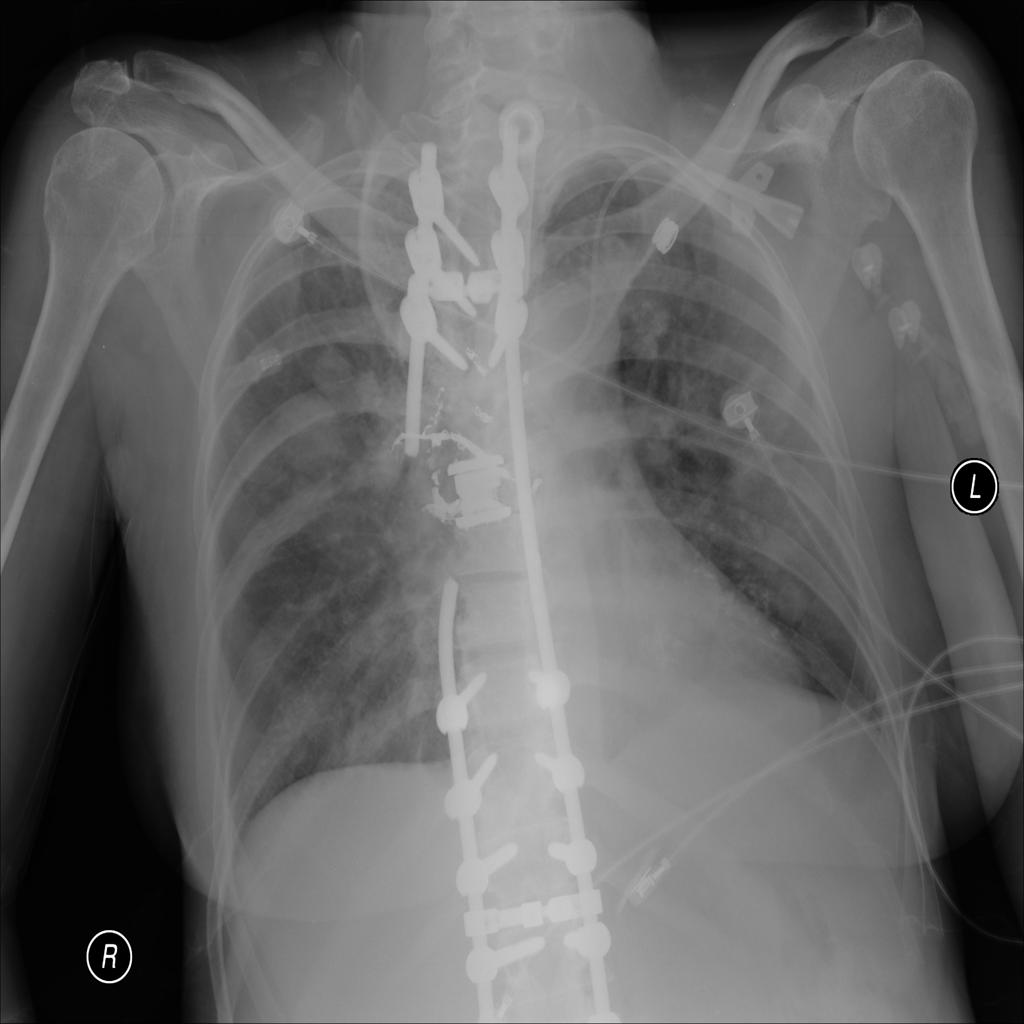nodule: (267, 396, 350, 477), (618, 279, 684, 357), (756, 563, 825, 633), (300, 332, 370, 399)
